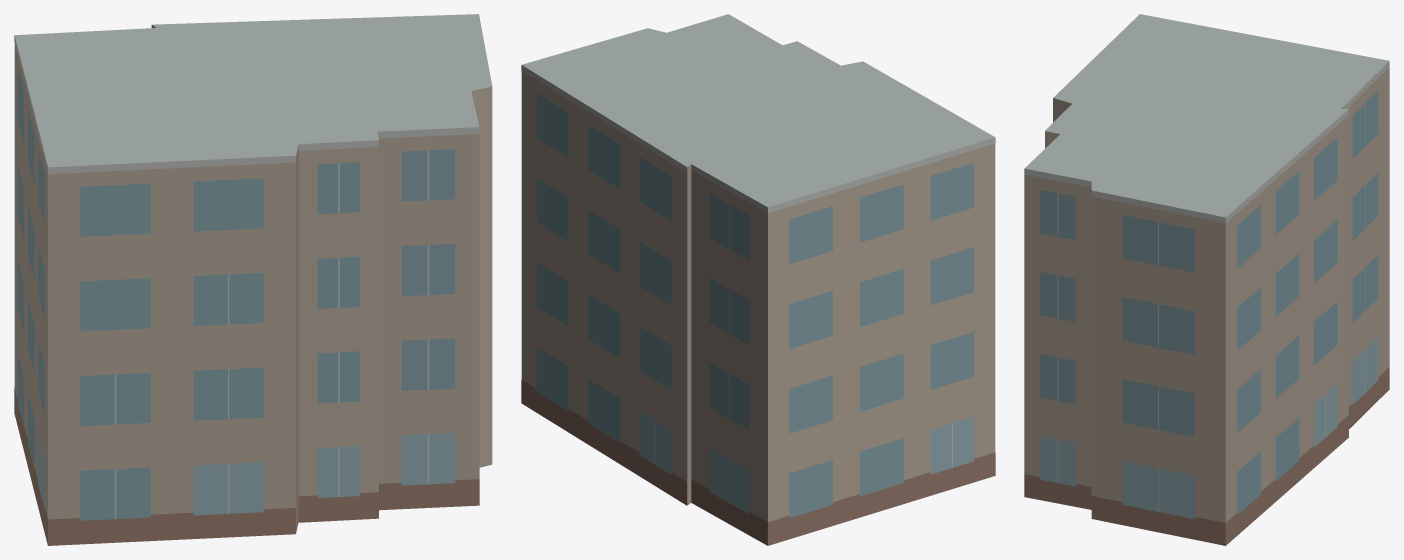
Rendered from survey-upis-32480885.glb.
The picture shows the model from 3 angles, left to right: view 1: azimuth 30°, elevation 25°; view 2: azimuth 150°, elevation 25°; view 3: azimuth 270°, elevation 25°; orthographic projection. The views are drawn at different scales.
Parts seen in each view (by area): view 1: survey-upis-32480885.tmp; view 2: survey-upis-32480885.tmp; view 3: survey-upis-32480885.tmp.
Part boxes in pixels (bbox=[...]): survey-upis-32480885.tmp: bbox=[14, 14, 492, 545]; survey-upis-32480885.tmp: bbox=[521, 14, 995, 545]; survey-upis-32480885.tmp: bbox=[1024, 14, 1389, 545].
Size of the model in its own units: 18.01 by 13.55 by 13.67.
